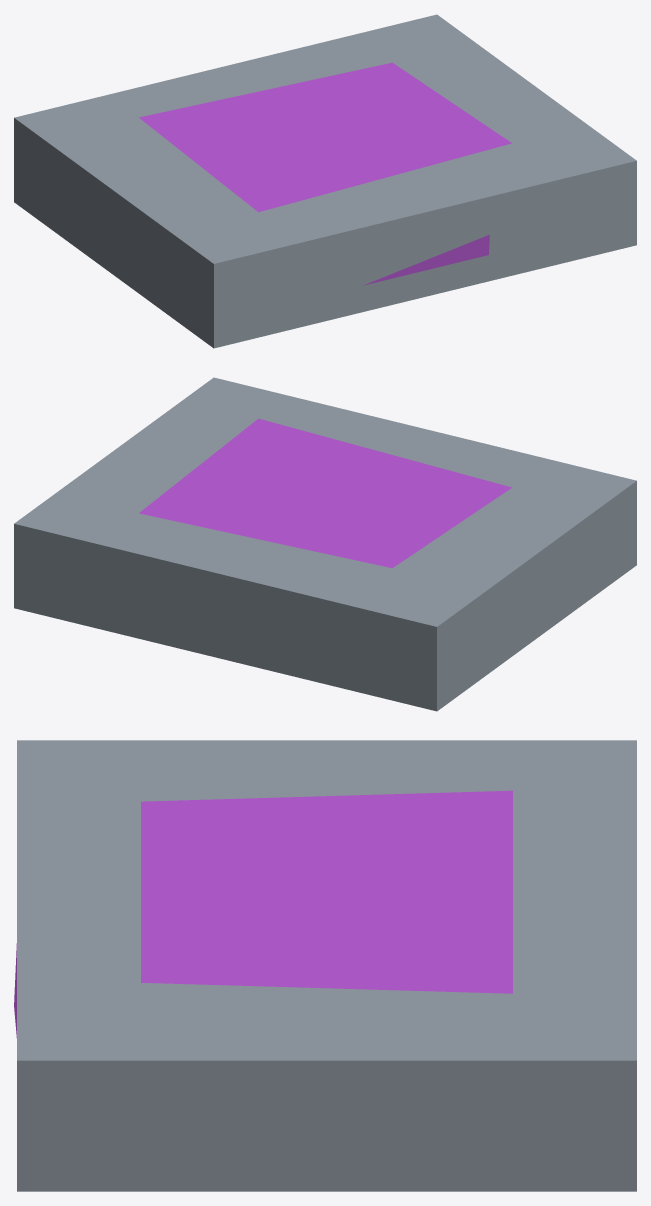
The model's file is CH_CriticalPointBomber_LOD1.glb.
3 renders of one model, top to bottom at view 1: azimuth 30°, elevation 25°; view 2: azimuth 150°, elevation 25°; view 3: azimuth 270°, elevation 25°, orthographic. The views are drawn at different scales.
Parts seen in each view (by area): view 1: EntranceGate; view 2: EntranceGate; view 3: EntranceGate.
Part boxes in pixels (<box>): EntranceGate: <box>14,14,636,348</box>; EntranceGate: <box>14,377,636,711</box>; EntranceGate: <box>14,740,636,1191</box>.
Size of the model in its own units: 880 by 186 by 723.
